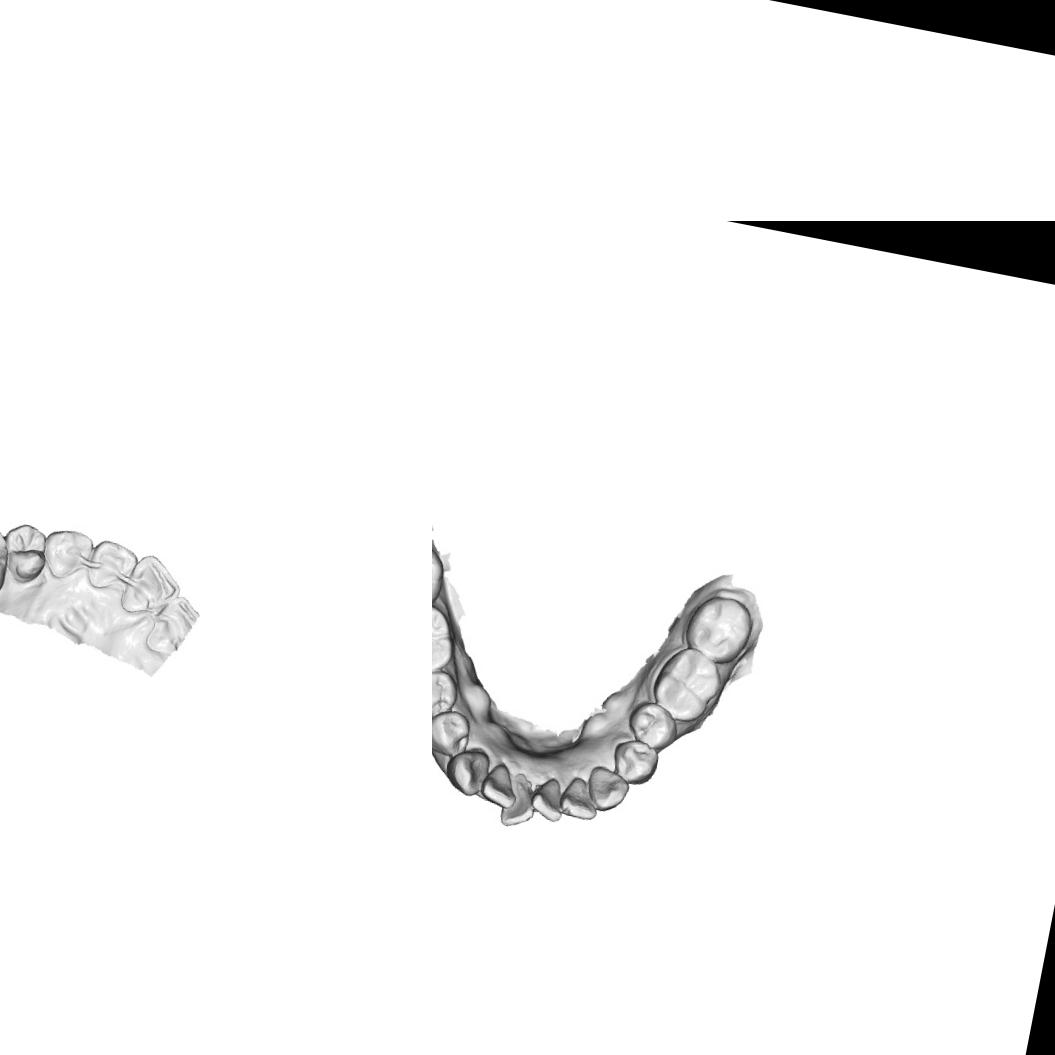canine: (36, 524, 96, 585), (440, 742, 492, 800), (582, 762, 632, 815)
incisor: (117, 550, 186, 620), (144, 589, 204, 659), (84, 538, 140, 594), (497, 769, 540, 831), (476, 759, 522, 810), (556, 774, 602, 822), (527, 773, 568, 823)
molar: (647, 640, 726, 726), (680, 590, 756, 668), (432, 597, 461, 682), (432, 532, 450, 614)
premolar: (0, 519, 52, 587), (623, 697, 681, 753), (607, 735, 661, 788), (432, 704, 473, 759), (432, 664, 461, 720)
